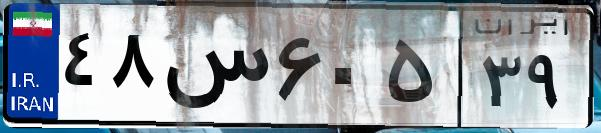0: (330, 28, 385, 110)
3: (475, 38, 525, 113)
4: (57, 26, 110, 100)
5: (385, 28, 445, 110)
6: (270, 28, 330, 110)
8: (110, 28, 158, 98)
9: (525, 38, 570, 115)
س: (158, 20, 270, 120)
